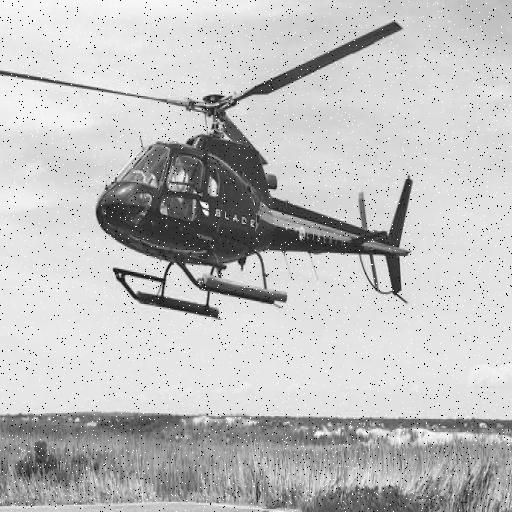helicopter: (1, 24, 422, 318)
